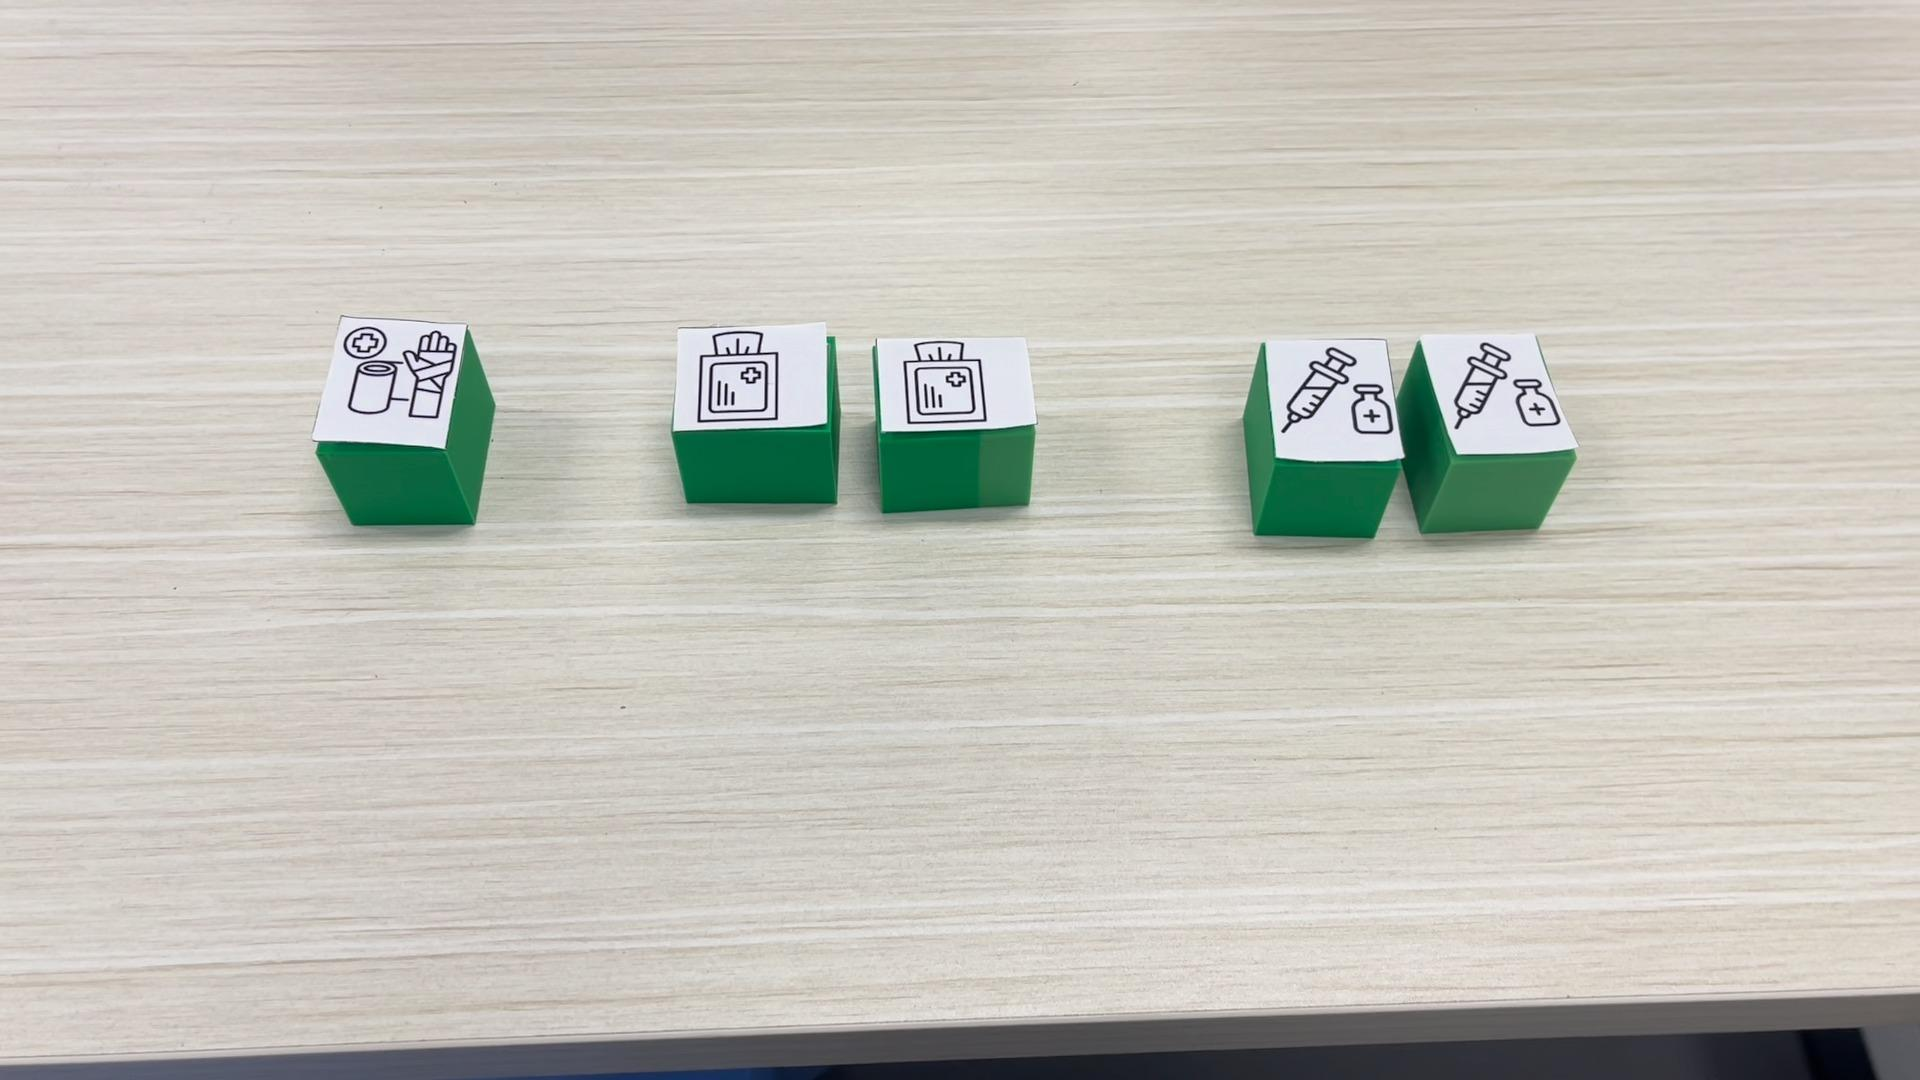Bandages: (313, 316, 493, 526)
Gauze: (669, 323, 844, 508), (873, 330, 1038, 513)
antiseptic cream: (1394, 334, 1580, 535), (1242, 327, 1406, 545)
